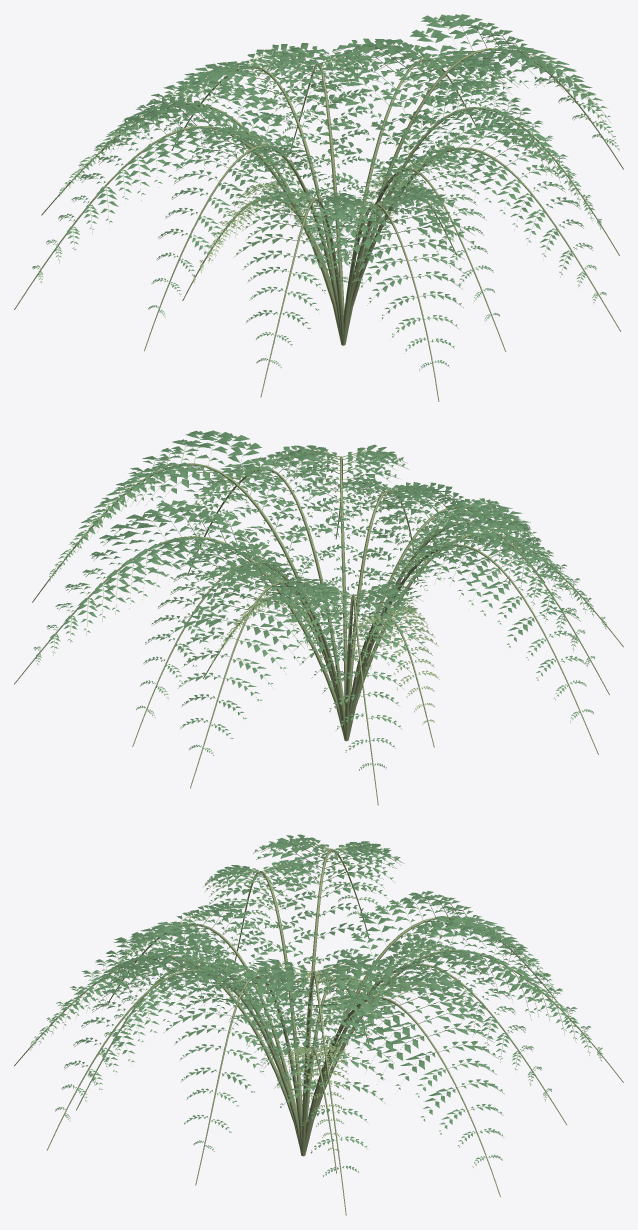
File: woodland_fern_lod0.glb
3 views of the same model, one above another, from view 1: azimuth 30°, elevation 25°; view 2: azimuth 150°, elevation 25°; view 3: azimuth 270°, elevation 25° (orthographic). The views are drawn at different scales.
Parts seen in each view (by area): view 1: fern_fronds, fern_rachis; view 2: fern_fronds, fern_rachis; view 3: fern_fronds, fern_rachis.
Part boxes in pixels (box(x1,y1,x2,y2)): fern_fronds: box(32, 14, 619, 369); fern_rachis: box(14, 22, 623, 401); fern_fronds: box(33, 430, 606, 770); fern_rachis: box(14, 435, 623, 805); fern_fronds: box(30, 834, 602, 1176); fern_rachis: box(14, 840, 623, 1215).
Bounding box in the file's own units: 1.7 × 0.7271 × 1.56.
